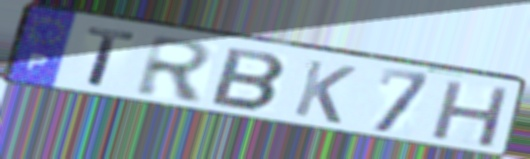7: (372, 64, 432, 138)
B: (207, 44, 290, 114)
H: (427, 77, 515, 150)
K: (289, 57, 360, 127)
R: (132, 32, 217, 105)
T: (84, 24, 139, 91)
